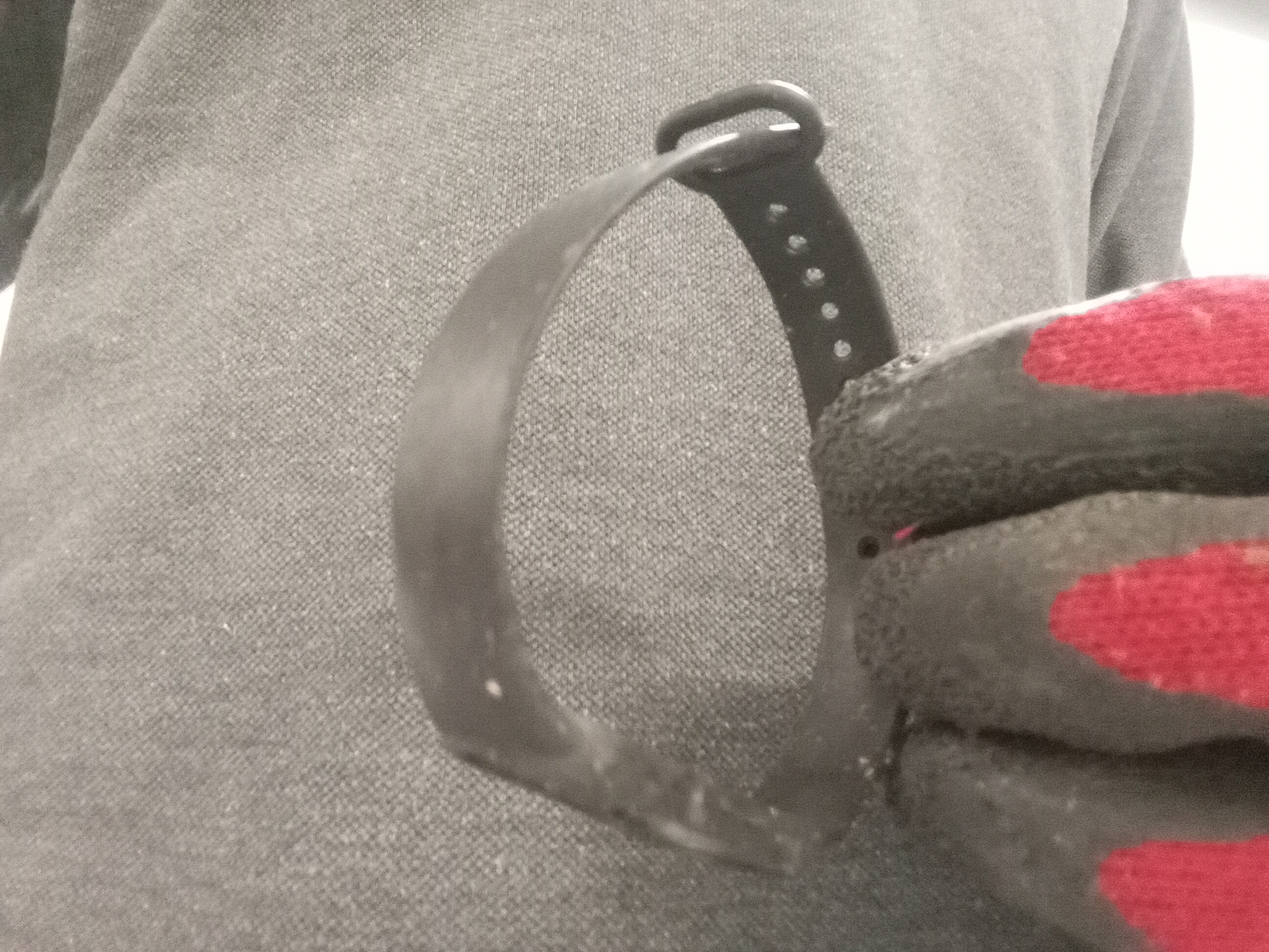Ordinario: (392, 76, 908, 876)
